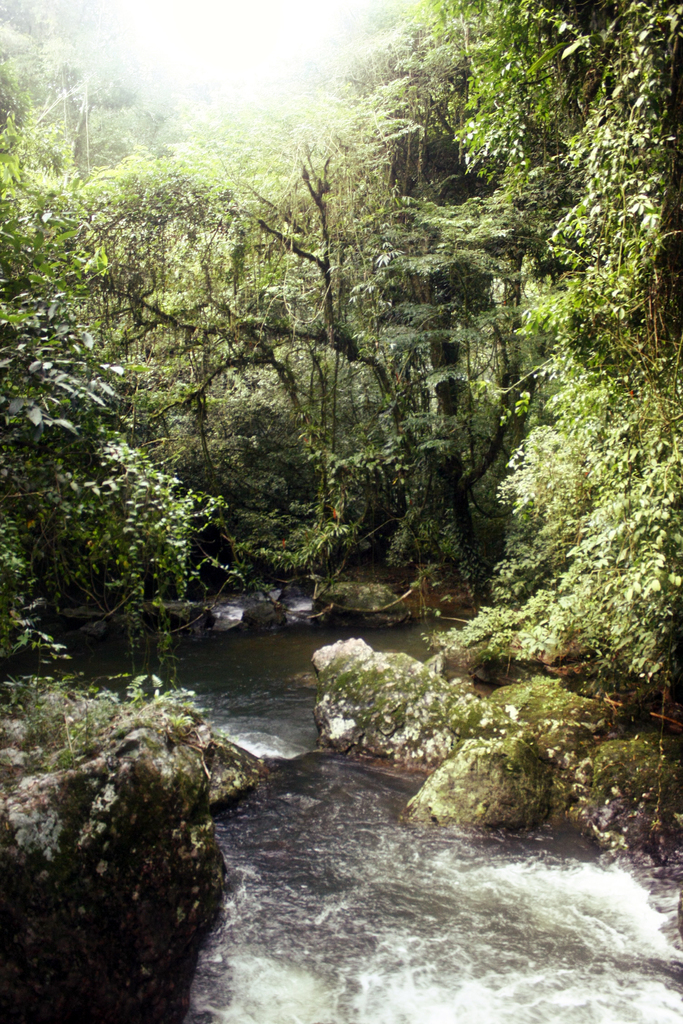Tree: (0, 0, 683, 690)
